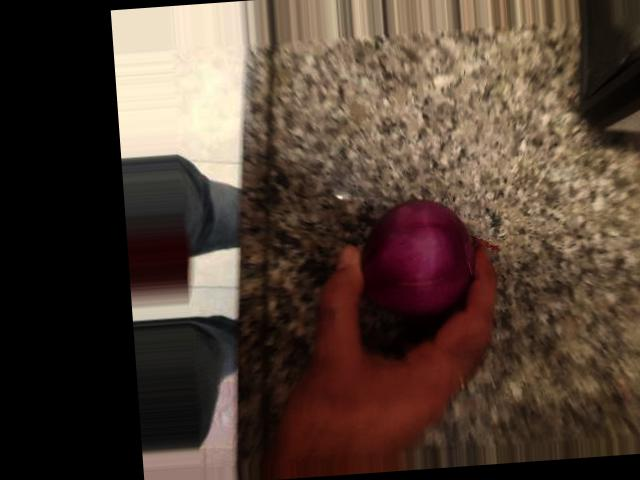onion: (438, 43, 566, 173)
